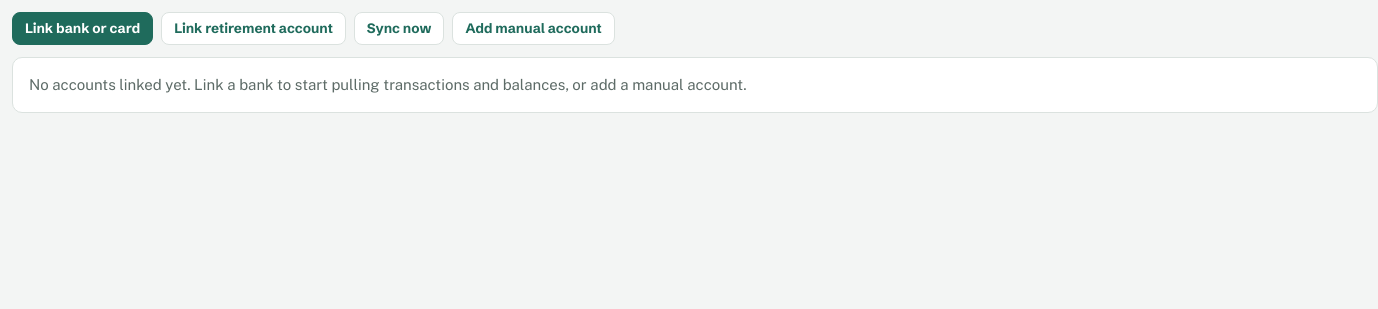
AccountsView › links a bank: link token, open Link, exchange the public token, refresh
The width and height of the screenshot is (1378, 309).
Expected: the text "No accounts linked yet" is shown, [29, 76, 746, 93]
Click the button "Link bank or card".
click(83, 28)  # box [12, 12, 153, 45]
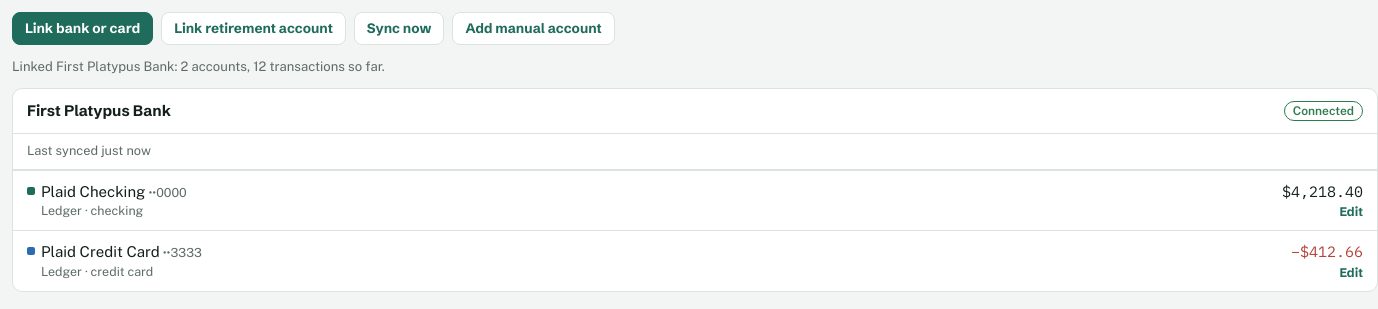
Result: the text "Linked First Platypus Bank: 2 accounts, 12 transactions so far." is shown at [12, 59, 385, 74]
Result: the text "Plaid Checking" is shown at [41, 183, 145, 200]
